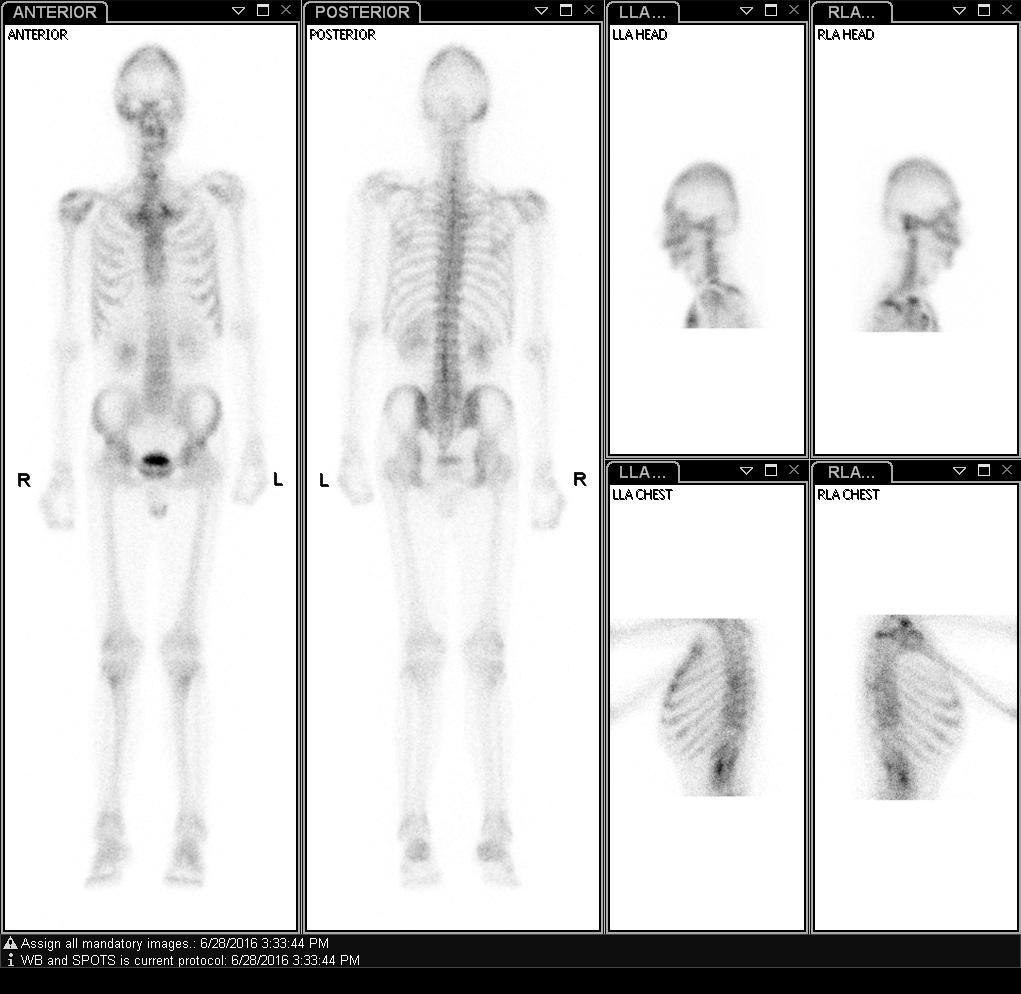person: (6, 23, 600, 931)
